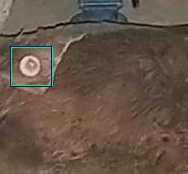text: (11, 47, 52, 85)
